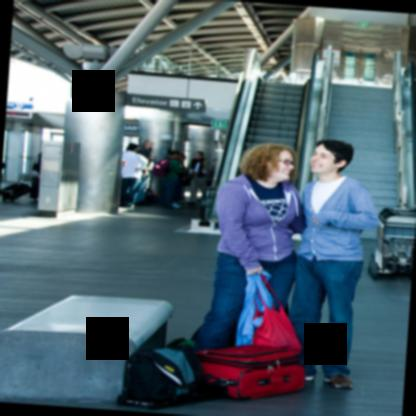backpack: (145, 342, 207, 407), (153, 158, 176, 177)
handbag: (252, 274, 302, 353)
suitcase: (197, 344, 306, 398), (1, 183, 31, 201), (30, 177, 40, 200)
